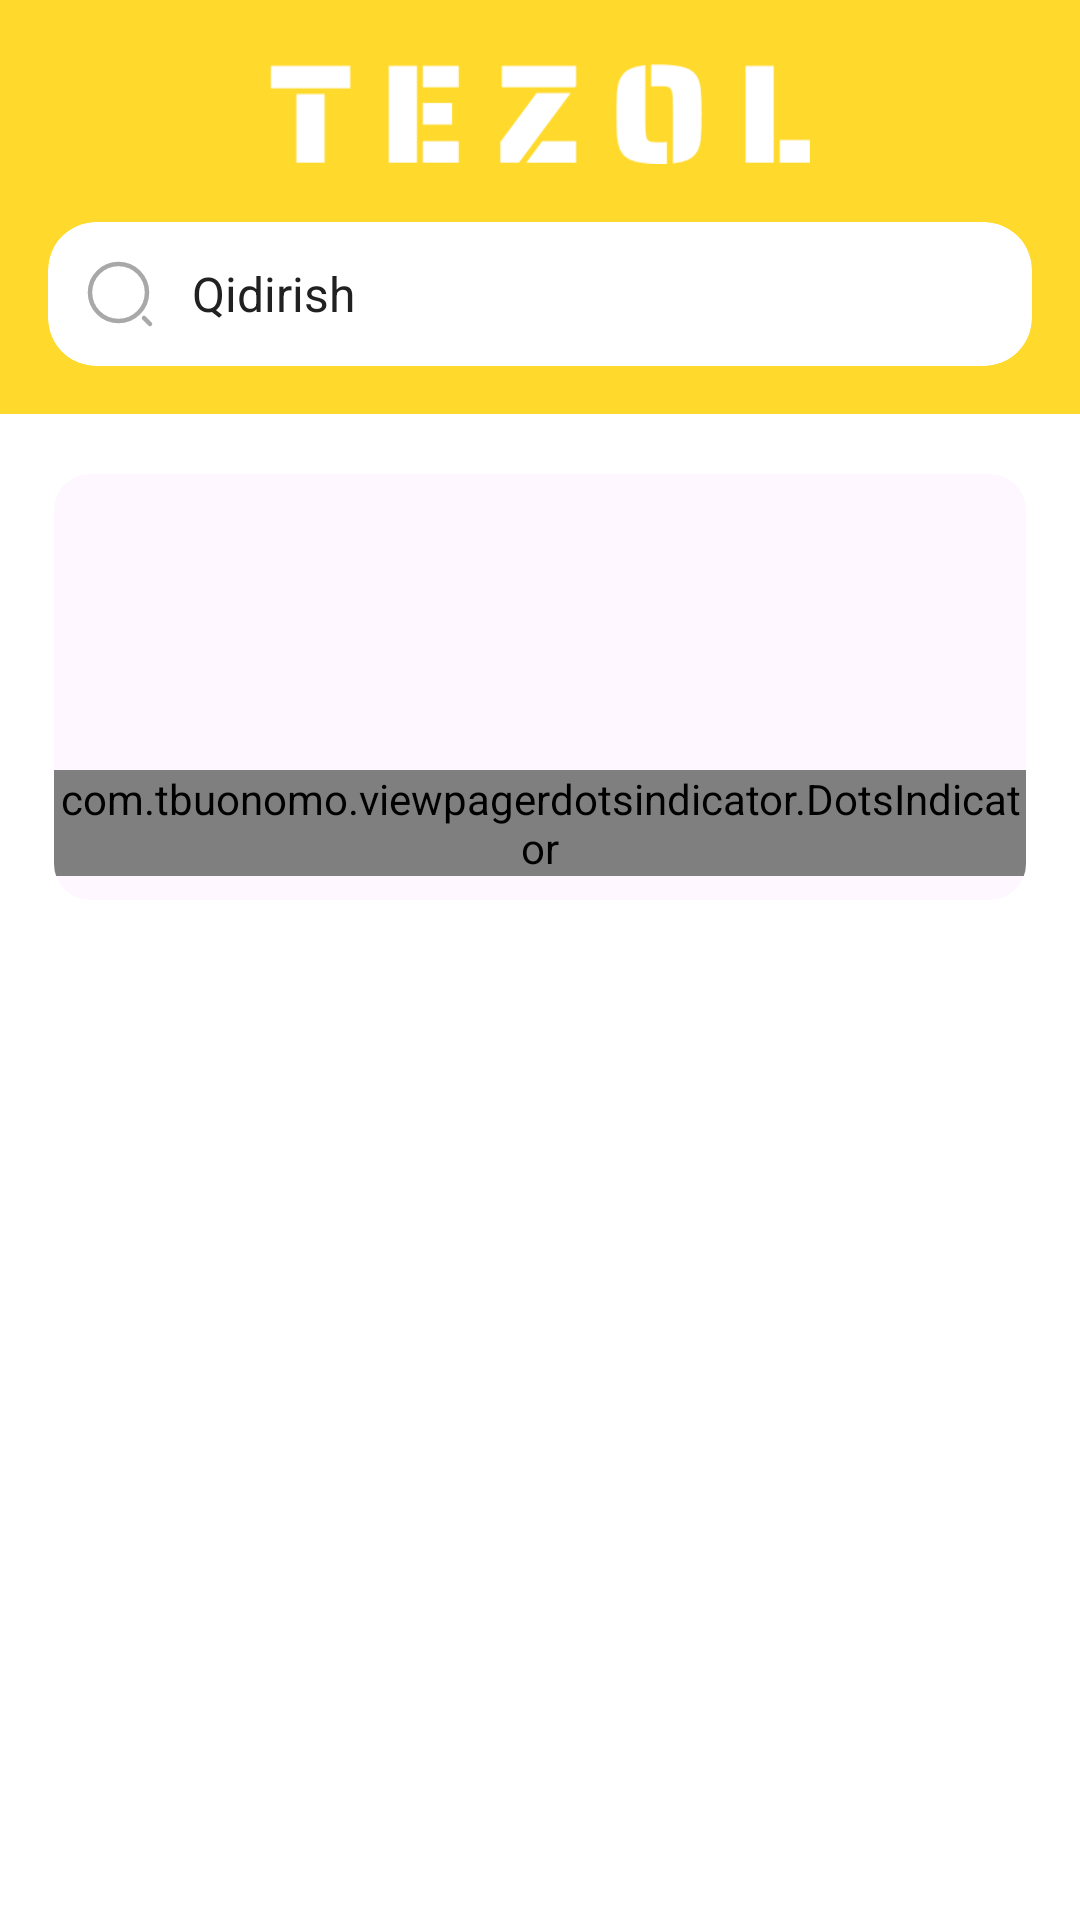

Icon click points for this 1080*1920 phone screenshot, format (x=x, y=y):
search: (x=120, y=294)
